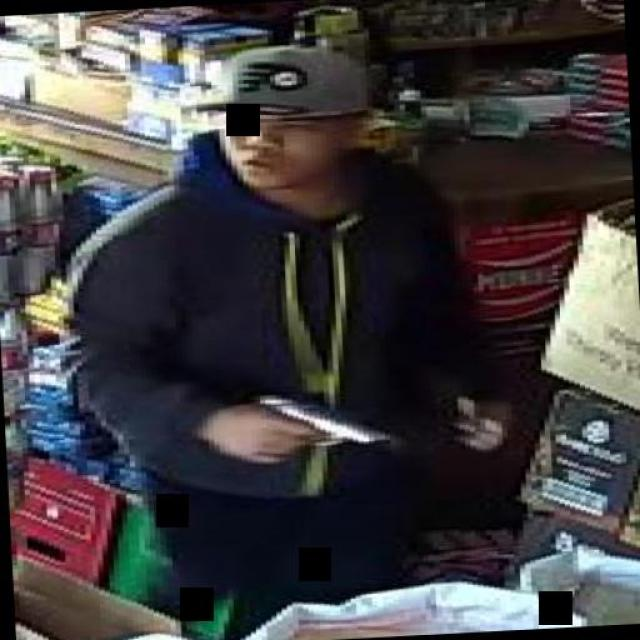gun: (228, 387, 398, 465)
